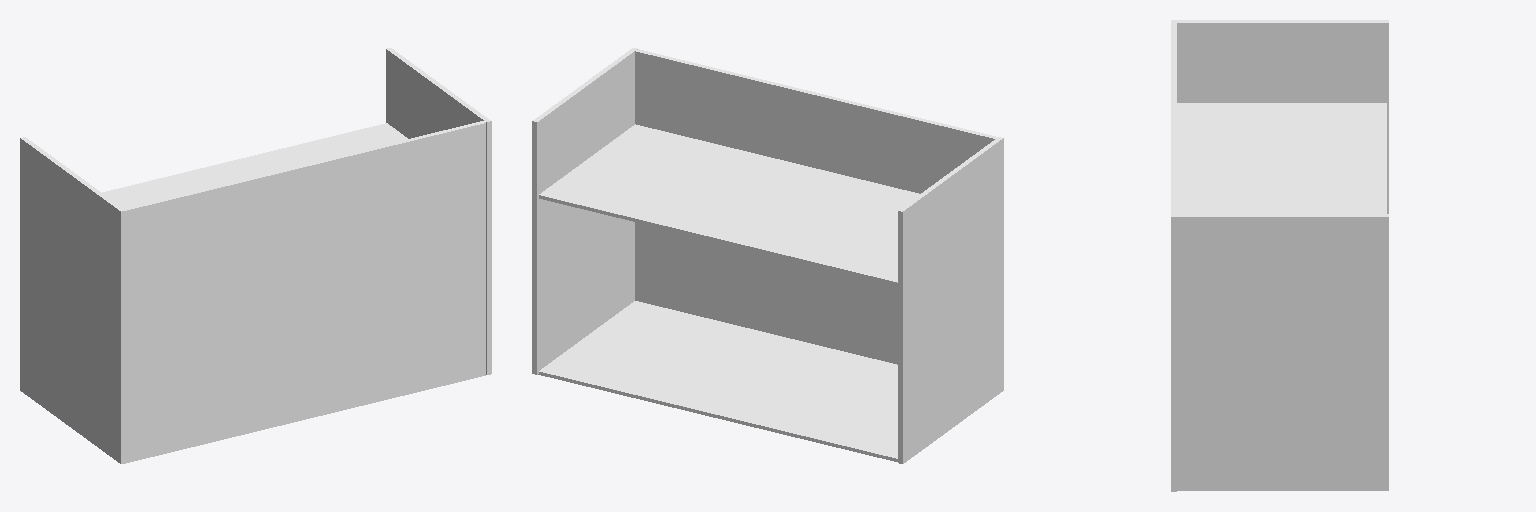
robot.urdf — shelf1.urdf:
<?xml version="0.0" ?>
<robot name="shelf1.urdf">
  <link concave="yes" name="base_link">
    <inertial>
      <mass value="0.0"/>
      <inertia ixx="0" ixy="0" ixz="0" iyy="0" iyz="0" izz="0"/>
    </inertial>
    <visual>
      <origin rpy="1.5707963 0 0"/>
      <geometry>
        <mesh filename="shelf1.obj" scale="0.009 0.006 0.009"/>
      </geometry>
      <material name="white">
        <color rgba="1 1 1 1"/>
      </material>
    </visual>
    <collision concave="yes">
      <origin rpy="1.5707963 0 0"/>
      <geometry>
        <mesh filename="shelf1.obj" scale="0.009 0.006 0.009"/>
      </geometry>
    </collision>
    <contact>
      <lateral_friction value="1.0"/>
    </contact>
  </link>
</robot>

--- Render facts (derived) ---
Views: 3 orthographic renders of the robot side by side, from view 1: azimuth 30°, elevation 25°; view 2: azimuth 150°, elevation 25°; view 3: azimuth 270°, elevation 25°.
Model shelf1.urdf with 1 links and 0 joints (none), rooted at base_link, posed all joints at 0.
Links seen in each view (by area): view 1: base_link; view 2: base_link; view 3: base_link.
Boxes of the visible links, x1=… form: base_link: x1=20, y1=48, x2=491, y2=463; base_link: x1=532, y1=48, x2=1003, y2=463; base_link: x1=1171, y1=20, x2=1388, y2=491.
Bounding box of the posed robot: 0.4626 × 0.2178 × 0.3023 m (x, y, z).
Meshes: 1 distinct files referenced, 1 mesh visuals loaded (1 OBJ).
